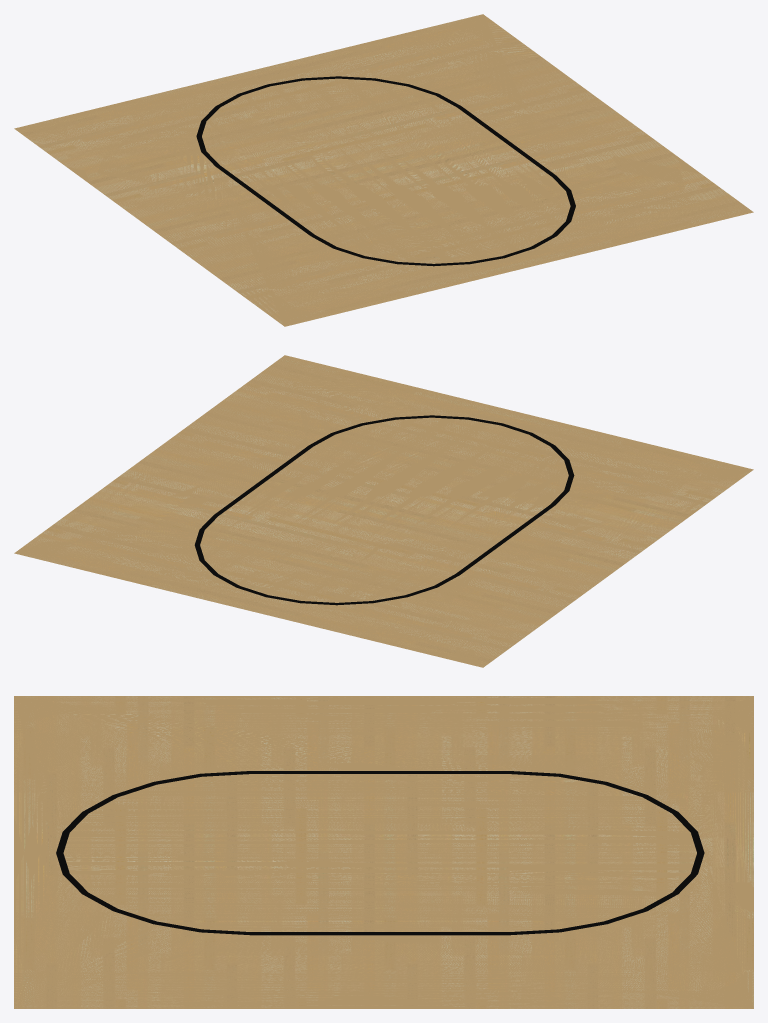
Rendered from simple_ellipse_2.dae.
3 views of the same model, one above another, from view 1: azimuth 30°, elevation 25°; view 2: azimuth 150°, elevation 25°; view 3: azimuth 270°, elevation 25° (orthographic). The views are drawn at different scales.
Visible parts, largest first — view 1: SketchUp, SketchUp_002, SketchUp_001; view 2: SketchUp, SketchUp_002, SketchUp_001; view 3: SketchUp, SketchUp_002, SketchUp_001.
Part boxes in pixels (<box>): SketchUp: <box>14,14,753,326</box>; SketchUp_002: <box>202,78,570,263</box>; SketchUp_001: <box>196,76,575,266</box>; SketchUp: <box>14,355,753,667</box>; SketchUp_002: <box>200,417,568,602</box>; SketchUp_001: <box>194,415,574,605</box>; SketchUp: <box>14,696,753,1008</box>; SketchUp_002: <box>63,774,696,931</box>; SketchUp_001: <box>56,771,704,935</box>.
Bounding box in the file's own units: 5 × 5 × 0.
Materials: 2 (1 with a texture image).
